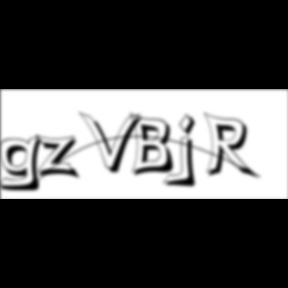B: (130, 111, 180, 179)
R: (204, 112, 262, 182)
V: (79, 110, 146, 176)
g: (0, 134, 50, 194)
j: (176, 113, 204, 191)
z: (36, 134, 84, 182)
